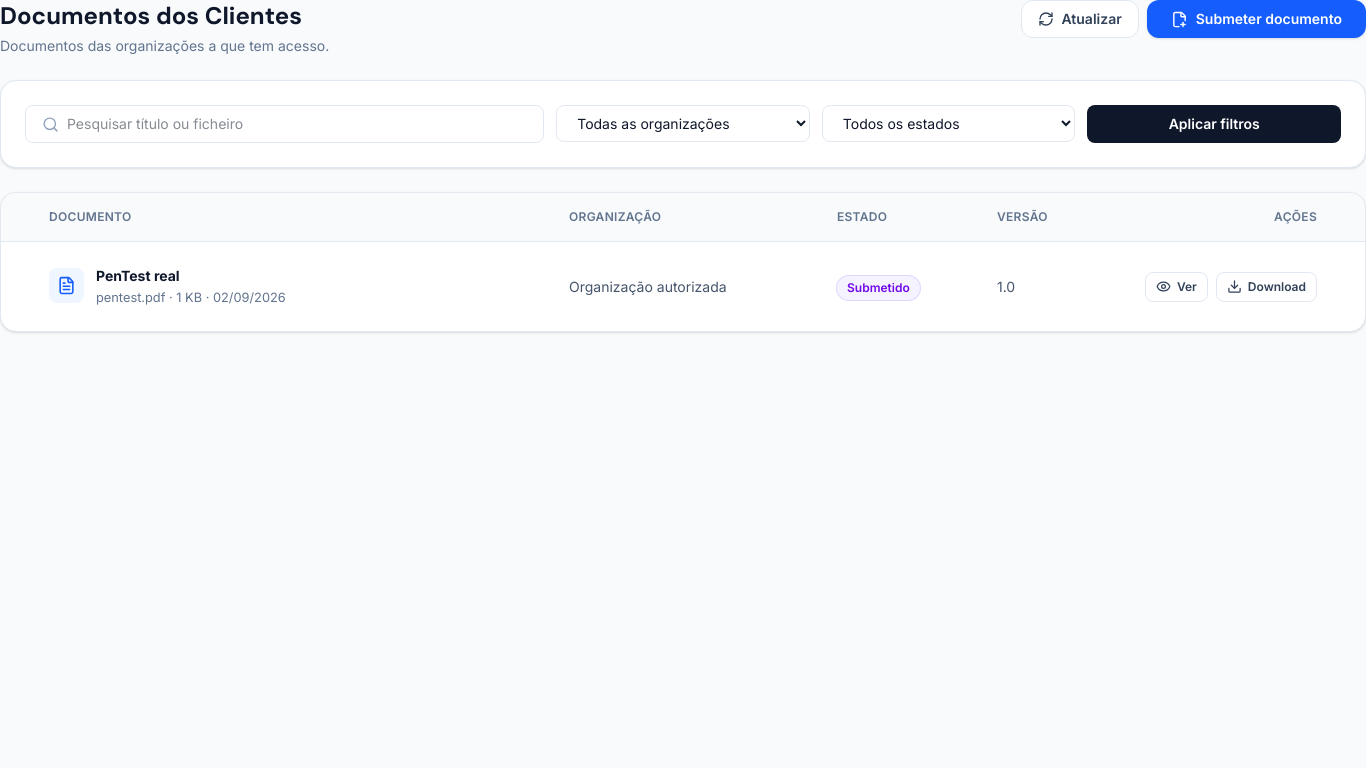
it: DocumentsWorkspace na categoria Pentest › mostra detalhe, histórico e versões sem expor chaves de armazenamento
Expected: the text "PenTest real" is shown, [96, 267, 180, 284]
Click the button "Ver".
click(1176, 287)  # box [1145, 272, 1208, 302]
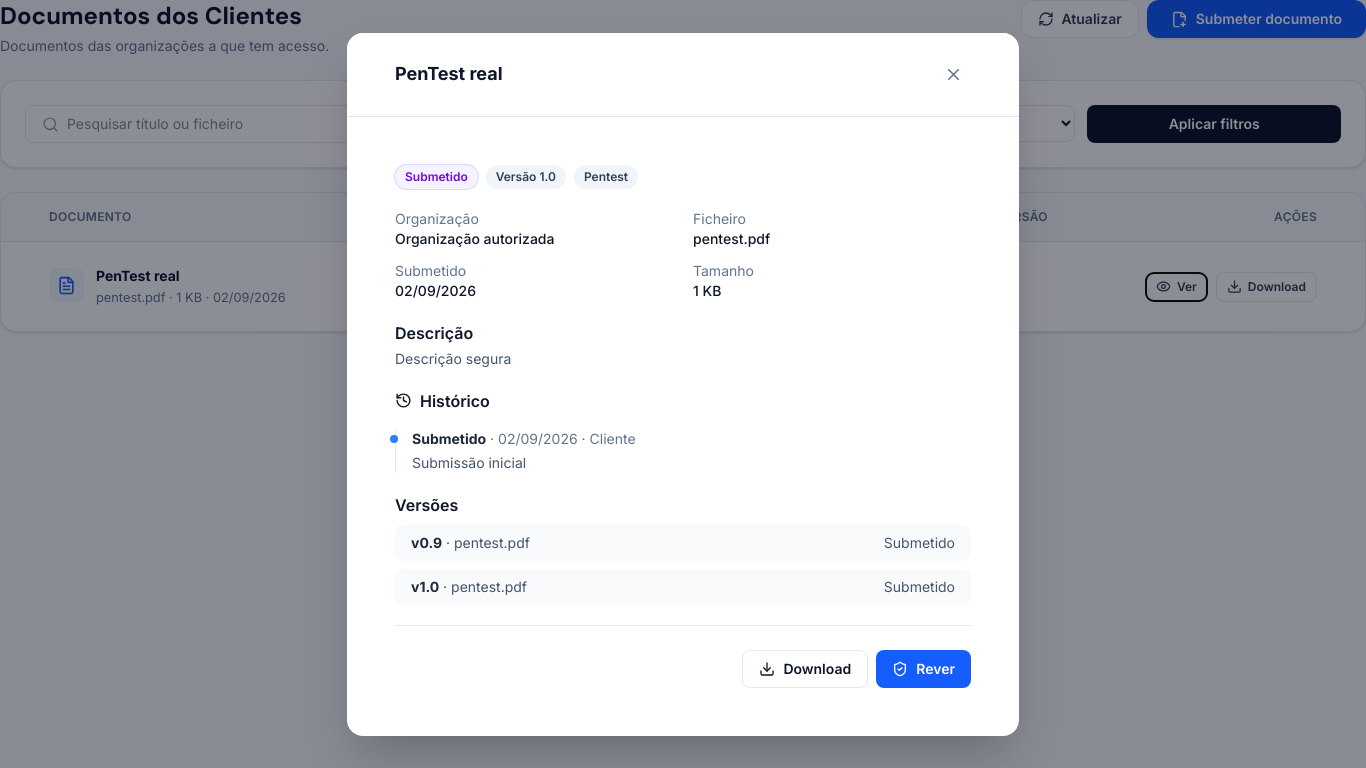
Expected: the heading "Histórico" is shown, [395, 390, 490, 410]
Expected: the text "Submissão inicial" is shown, [412, 454, 526, 470]
Expected: the heading "Versões" is shown, [395, 494, 458, 514]
